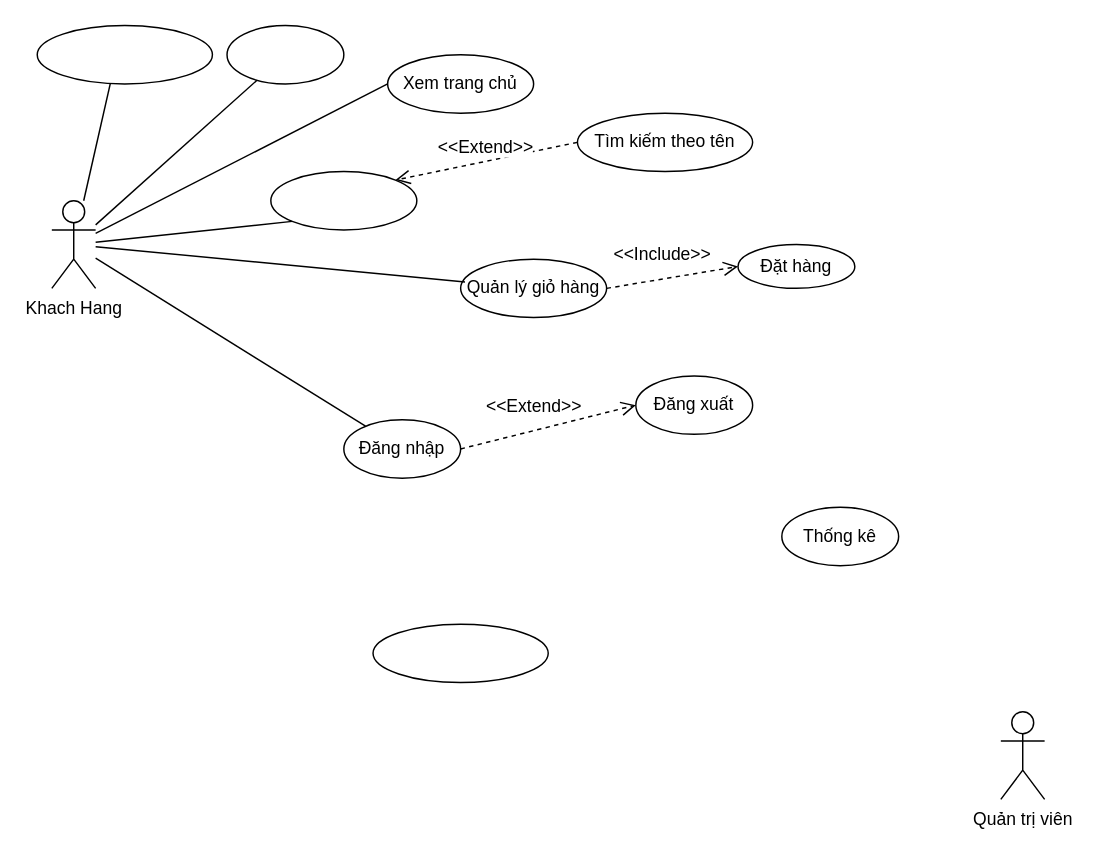
Some shapes in this 1096 by 856 pixel diagram are drawn without their labels. Each missing label, with the box of its shape:
Cập nhật hồ sơ cá nhân: (36, 24, 212, 84)
Quản trị hệ thống: (372, 623, 548, 683)
Xem sản phẩm: (269, 170, 417, 230)
Đăng ký: (226, 24, 344, 84)
